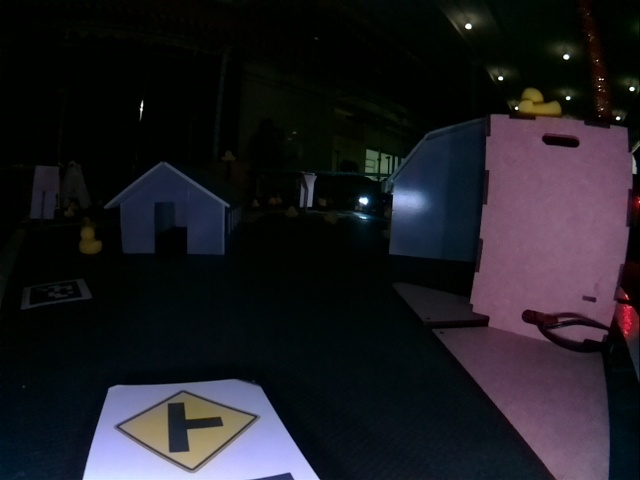Duckie: (518, 88, 558, 115), (79, 227, 102, 253)
Intersection sign: (117, 388, 259, 471)
QR code: (19, 278, 94, 311)
